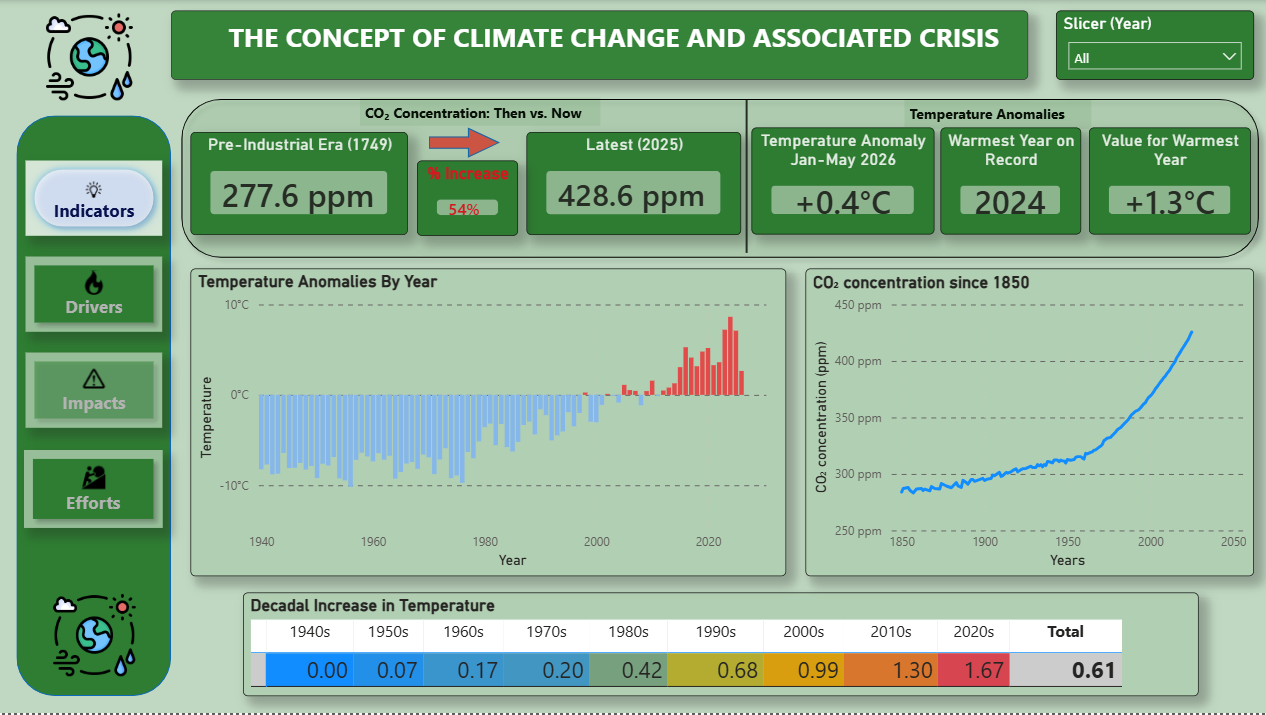

What the dashboard file says about the page in this screenshot:
{"tool":"powerbi","page":{"name":"Indicators","canvas":[1280,720],"ordinal":0},"visuals":[{"type":"shape","box":[16.7,116.6,156,586],"z":0},{"type":"actionButton","box":[26.2,355.7,138.3,75.7],"z":0,"group":"g1"},{"type":"actionButton","box":[26.2,161.6,138.3,75.7],"z":1000,"group":"g1"},{"type":"clusteredColumnChart","title":"Temperature Anomalies By Year","fields":{"Category":["global-temperature-anomalies-by-month.Year"],"Y":["Sum(global-temperature-anomalies-by-month.Temperature anomaly)"]},"box":[192.3,271,601.1,310.4],"z":1000},{"type":"actionButton","box":[26.2,258.6,138.3,75.7],"z":2000,"group":"g1"},{"type":"lineChart","title":"CO₂ concentration since 1850","fields":{"Category":["co2-long-term-concentration.Year"],"Y":["Avg(co2-long-term-concentration.Annual average)"]},"box":[813.1,271,452.7,310.4],"z":2000},{"type":"actionButton","box":[24.5,453.3,139.7,78.6],"z":3000,"group":"g1"},{"type":"pivotTable","title":"Decadal Increase in Temperature","fields":{"Columns":["monthly-average-surface-temperatures-by-decade.Decade"],"Values":["monthly-average-surface-temperatures-by-decade.Decade Anomaly"]},"box":[245.3,598.1,964.5,104.5],"z":3000},{"type":"textbox","box":[172,11.3,865.5,69.9],"z":4000},{"type":"image","box":[36.3,598.1,118.1,86.3],"z":5000},{"type":"image","box":[7.6,12.1,165,90.9],"z":6000},{"type":"group","id":"g1","title":"Group 1","box":[24.5,161.6,140,370.3],"z":7000},{"type":"cardVisual","title":"Latest (2025)","fields":{"Data":["co2-long-term-concentration.Latest CO2 (ppm)"]},"box":[532.2,132.7,216.6,103.7],"z":8000},{"type":"cardVisual","title":"Pre-Industrial Era (1749)","fields":{"Data":["co2-long-term-concentration.Pre-Industrial Display"]},"box":[192.2,132.7,219.6,103.7],"z":9000},{"type":"shape","box":[433.1,128.1,71.7,30.5],"z":10000},{"type":"cardVisual","title":"% Increase","fields":{"Data":["co2-long-term-concentration.CO2 vs Pre-Industrial %"]},"box":[420.9,161.7,102.2,76.3],"z":11000},{"type":"textbox","box":[363,99.1,242.5,29],"z":12000},{"type":"cardVisual","title":"Temperature Anomaly Jan-May 2026","fields":{"Data":["monthly-average-surface-temperatures-by-year.Latest Year Temp Anomaly"]},"box":[757.9,128.1,184.5,108.3],"z":13000},{"type":"cardVisual","title":"Warmest Year on Record","fields":{"Data":["monthly-average-surface-temperatures-by-year.Warmest Year (Complete Years Only)"]},"box":[950.1,128.1,141.8,108.3],"z":14000},{"type":"cardVisual","title":"Value for Warmest Year","fields":{"Data":["monthly-average-surface-temperatures-by-year.Warmest Year Anomaly Value"]},"box":[1099.5,128.1,163.2,108.3],"z":15000},{"type":"shape","box":[701.5,100.7,105.2,155.6],"z":16000},{"type":"textbox","box":[912.8,100.2,189,30.2],"z":17000},{"type":"slicer","title":"Slicer (Year)","fields":{"Values":["YearTable.Year"]},"box":[1065.8,11.3,200.3,69.9],"z":18000},{"type":"shape","box":[173.9,91.5,1105.6,178.4],"z":19000}]}

Visuals, with their boxes in screenshot pixels (x1, y1, x2, y2), scaled from the page's 1280x720 canvas onto the 1266x715 screenshot:
shape: 17 116 171 698
actionButton: 26 353 163 428
actionButton: 26 160 163 236
"Temperature Anomalies By Year" clusteredColumnChart: 190 269 785 577
actionButton: 26 257 163 332
"CO₂ concentration since 1850" lineChart: 804 269 1252 577
actionButton: 24 450 162 528
"Decadal Increase in Temperature" pivotTable: 243 594 1197 698
textbox: 170 11 1026 81
image: 36 594 153 680
image: 8 12 171 102
"Group 1" group: 24 160 163 528
"Latest (2025)" cardVisual: 526 132 741 235
"Pre-Industrial Era (1749)" cardVisual: 190 132 407 235
shape: 428 127 499 157
"% Increase" cardVisual: 416 161 517 236
textbox: 359 98 599 127
"Temperature Anomaly Jan-May 2026" cardVisual: 750 127 932 235
"Warmest Year on Record" cardVisual: 940 127 1080 235
"Value for Warmest Year" cardVisual: 1087 127 1249 235
shape: 694 100 798 255
textbox: 903 100 1090 129
"Slicer (Year)" slicer: 1054 11 1252 81
shape: 172 91 1265 268
